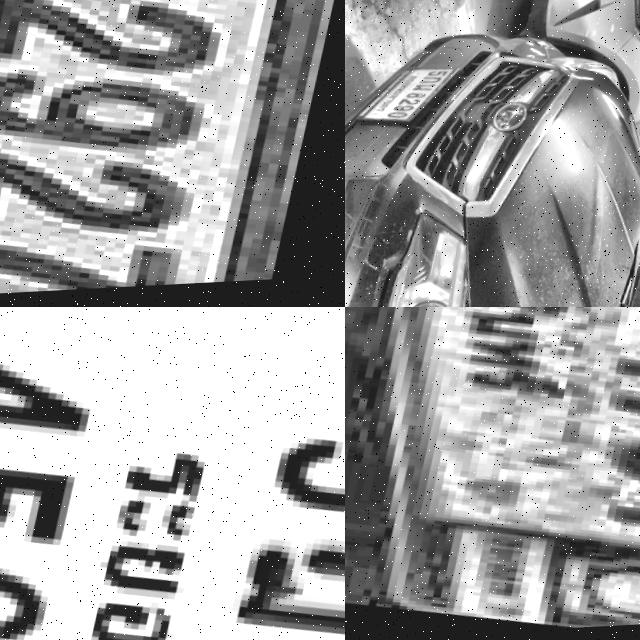license-plate: (0, 307, 345, 640), (0, 0, 345, 307), (345, 307, 640, 640), (355, 55, 464, 137)
